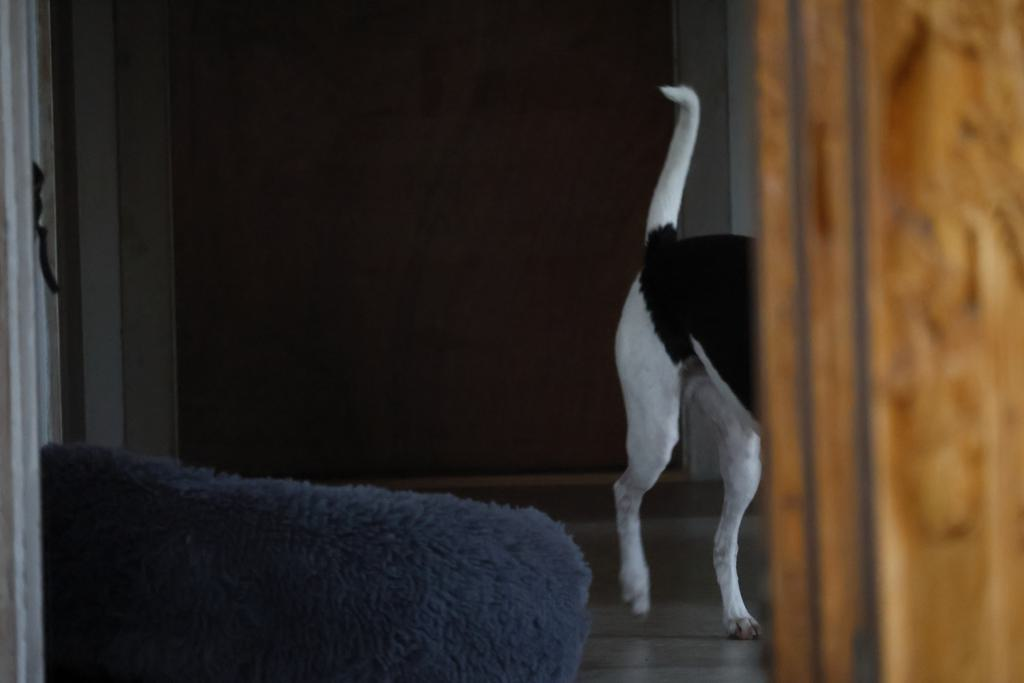Dog: (594, 77, 787, 644)
